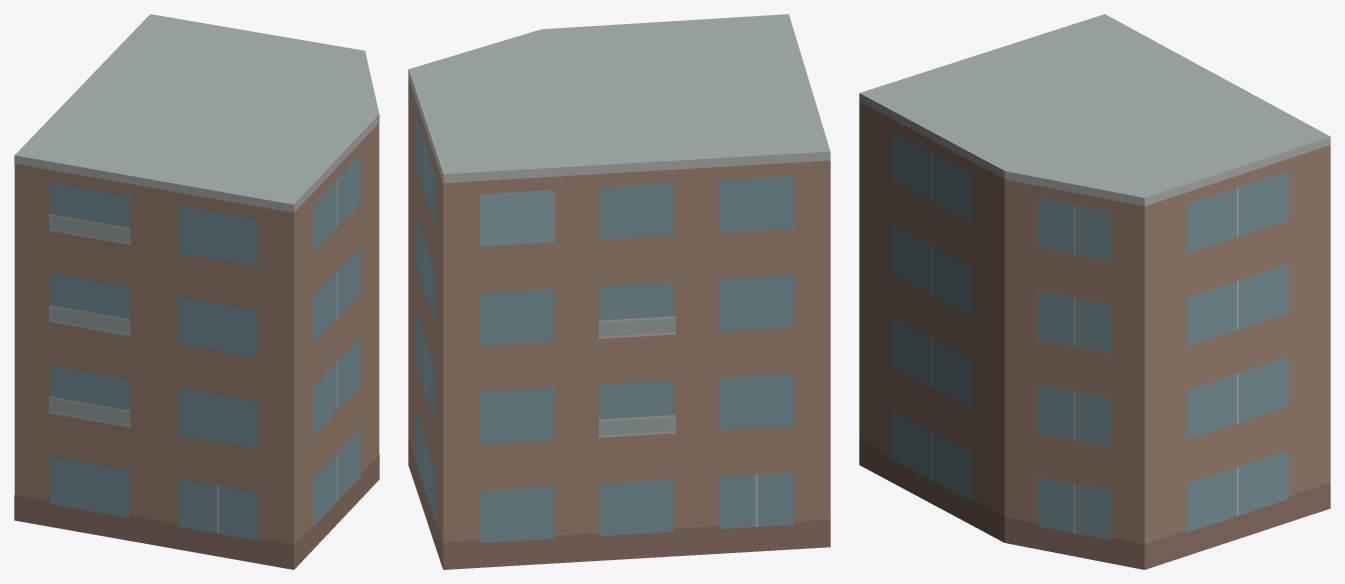
File: survey-upis-33003050.glb
3 renders of one model, left to right at view 1: azimuth 30°, elevation 25°; view 2: azimuth 150°, elevation 25°; view 3: azimuth 270°, elevation 25°, orthographic. The views are drawn at different scales.
Visible parts, largest first — view 1: survey-upis-33003050.tmp; view 2: survey-upis-33003050.tmp; view 3: survey-upis-33003050.tmp.
Part boxes in pixels (bbox=[...]): survey-upis-33003050.tmp: bbox=[14, 14, 379, 569]; survey-upis-33003050.tmp: bbox=[408, 14, 830, 569]; survey-upis-33003050.tmp: bbox=[859, 14, 1330, 569].
Bounding box in the file's own units: 11.57 × 10.9 × 12.53.
